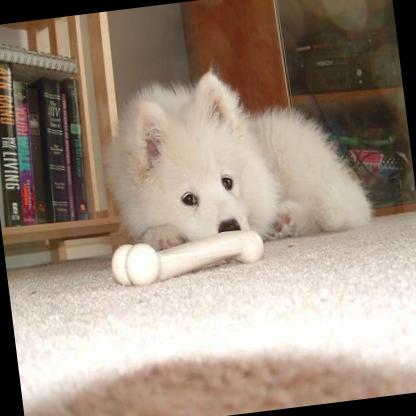Samoyed: (89, 46, 376, 258)
